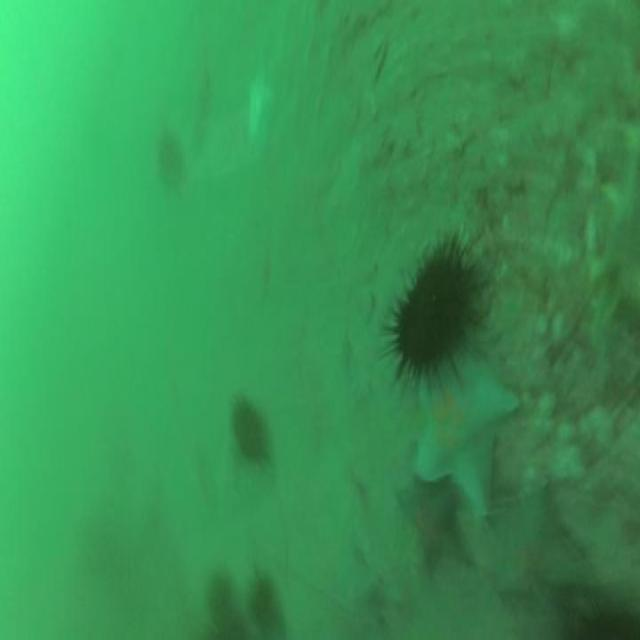echinus: (394, 248, 474, 375), (232, 396, 267, 456), (156, 133, 182, 183)
starfish: (409, 356, 515, 524), (484, 493, 580, 599), (393, 472, 466, 580)
